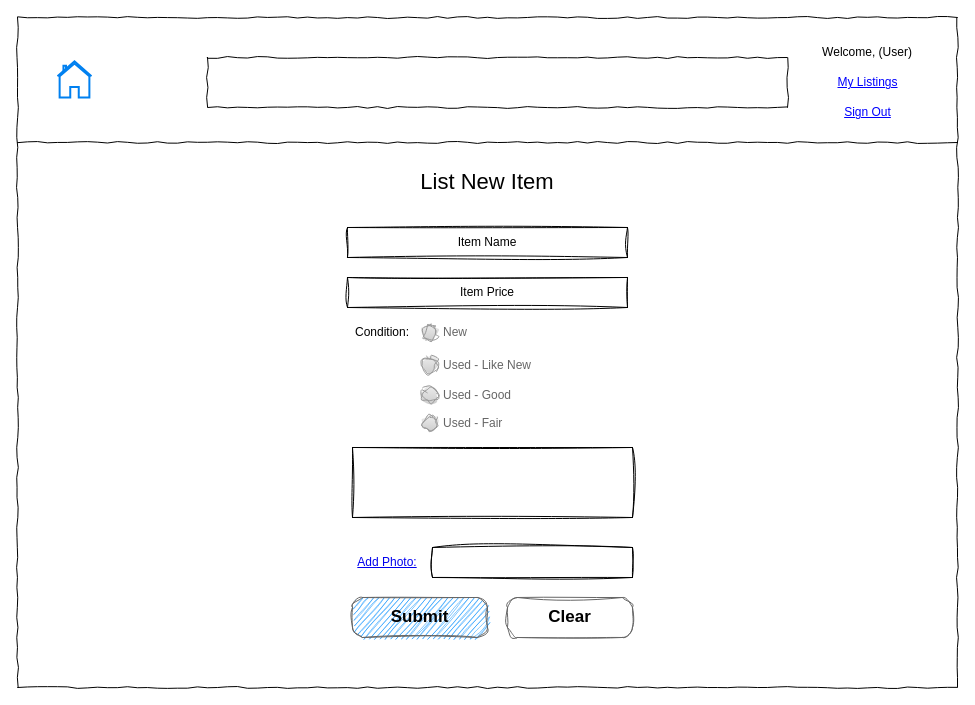
Some shapes in this 975 by 705 pixel diagram are drawn without their labels. The shapes that lost their labels are listed below. From the top down, each one's box as (x1, y1, x2, y2) in pixels, then its label:
(206, 56, 788, 108): My Campus Marketplace
(352, 446, 632, 518): Item Description
(432, 546, 632, 578): (photo link)
